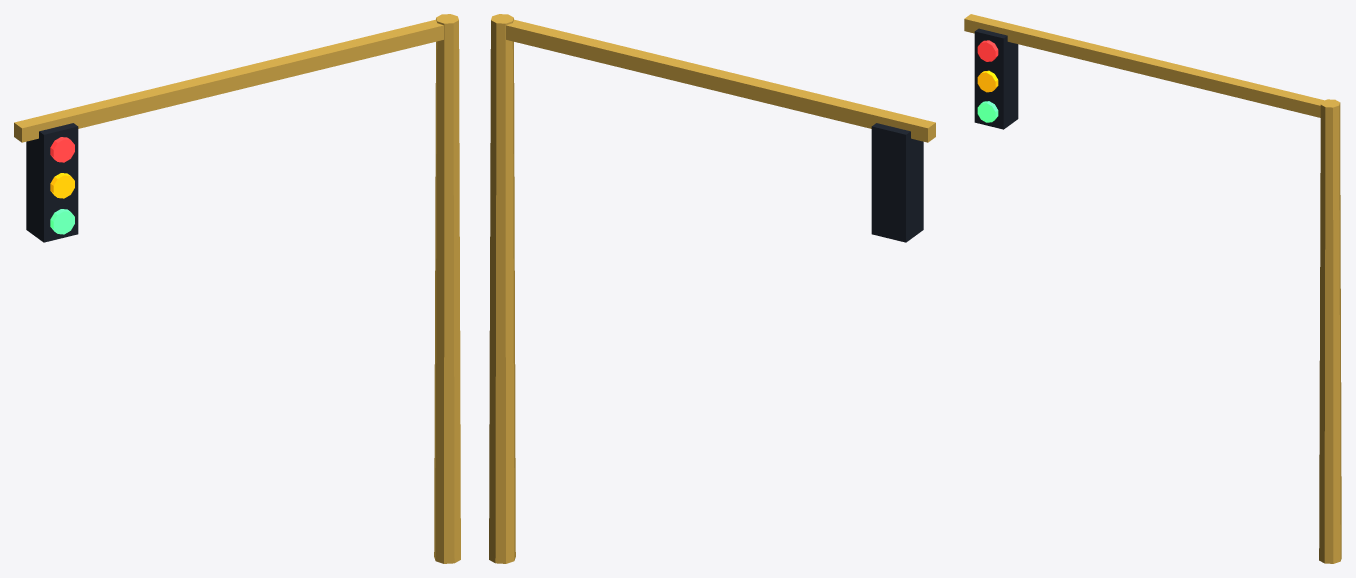
The model's file is traffic_light.glb.
3 renders of one model, left to right at view 1: azimuth 30°, elevation 25°; view 2: azimuth 150°, elevation 25°; view 3: azimuth 330°, elevation 25°, orthographic. The views are drawn at different scales.
Visible parts, largest first — view 1: pole; view 2: pole; view 3: pole.
Part boxes in pixels (x1,y1,x2,y2): pole: [14, 14, 460, 563]; pole: [489, 14, 935, 563]; pole: [964, 14, 1341, 563].
Size of the model in its own units: 5.14 by 6 by 0.415.
